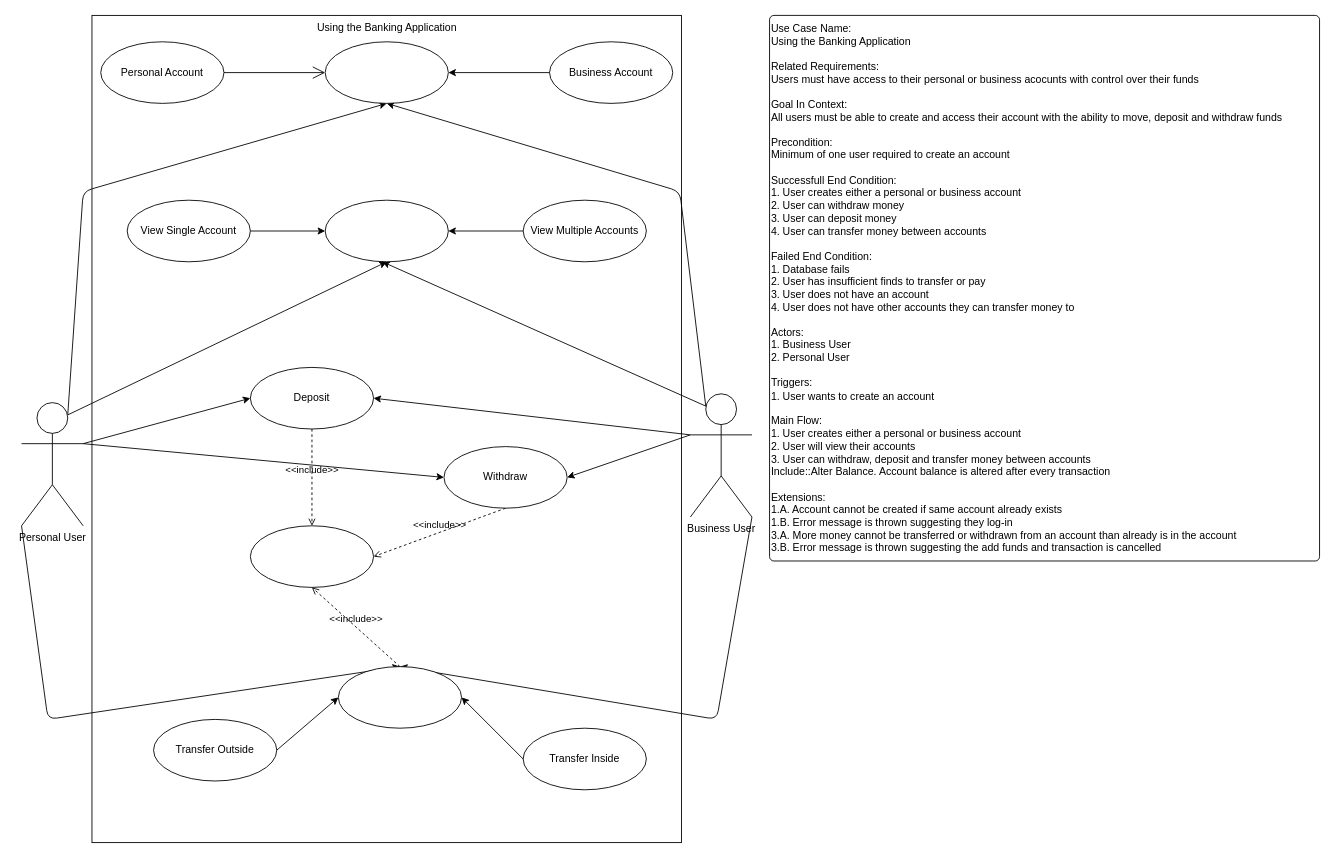
This 1335x858 diagram has some shape labels left out. Here are the shapes that lost their labels. From the top down, the centre of each, then its label:
[386,72]: Create an account
[386,230]: View Account Details
[311,556]: Alter Balance
[399,697]: Transfer
